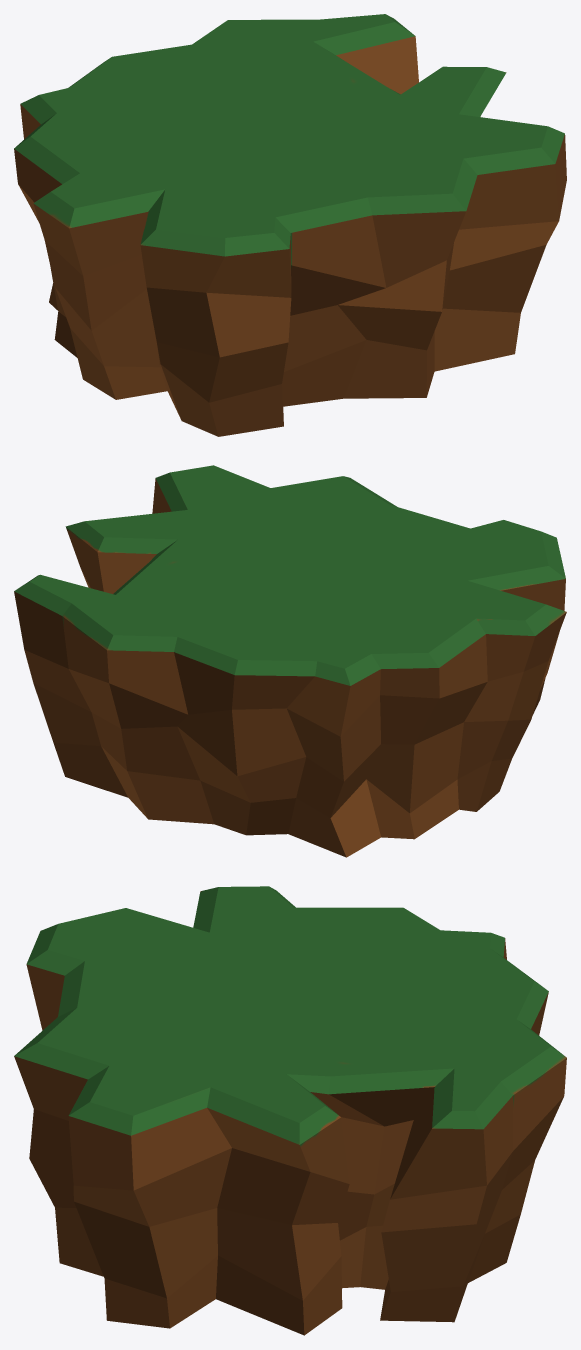
Rendered from cliff-number-three1.glb.
The picture shows the model from 3 angles, top to bottom: view 1: azimuth 30°, elevation 25°; view 2: azimuth 150°, elevation 25°; view 3: azimuth 270°, elevation 25°; orthographic projection. The views are drawn at different scales.
Parts seen in each view (by area): view 1: Plane; view 2: Plane; view 3: Plane.
Boxes of the visible parts, <box> form: Plane: <box>14,14,566,436</box>; Plane: <box>14,465,566,857</box>; Plane: <box>14,886,566,1335</box>.
Bounding box in the file's own units: 2.26 × 0.944 × 2.03.
Materials: 1 (1 with a texture image).
